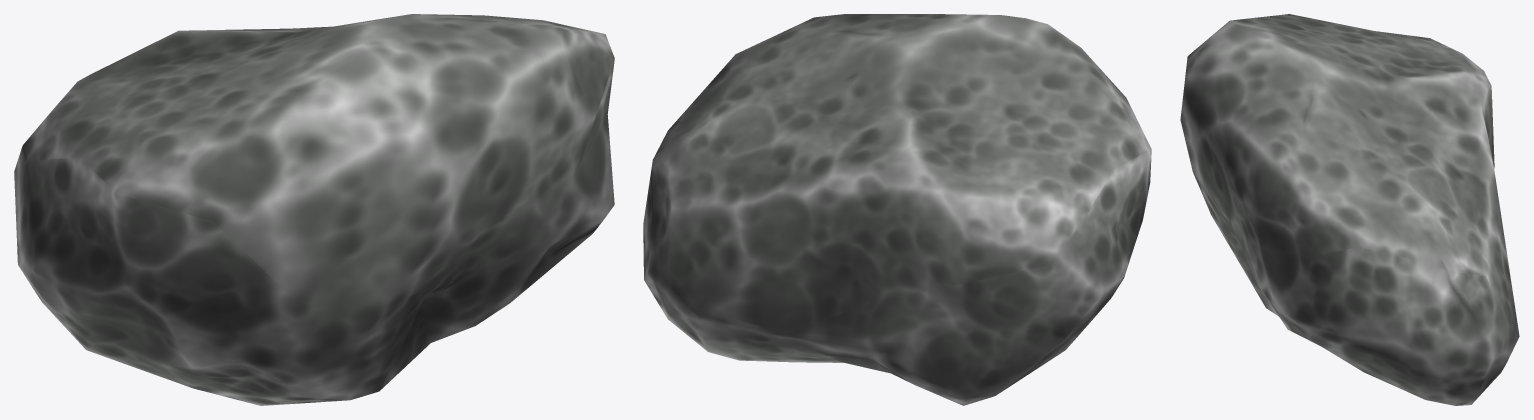
File: SmallMeteo4.fbx
3 views of the same model, side by side, from view 1: azimuth 30°, elevation 25°; view 2: azimuth 150°, elevation 25°; view 3: azimuth 270°, elevation 25° (orthographic). The views are drawn at different scales.
Visible parts, largest first — view 1: Meteorite_05; view 2: Meteorite_05; view 3: Meteorite_05.
Boxes of the visible parts, bbox=[...] form: Meteorite_05: bbox=[14, 14, 614, 405]; Meteorite_05: bbox=[643, 14, 1151, 405]; Meteorite_05: bbox=[1180, 14, 1519, 405].
Size of the model in its own units: 730 by 477 by 493.
